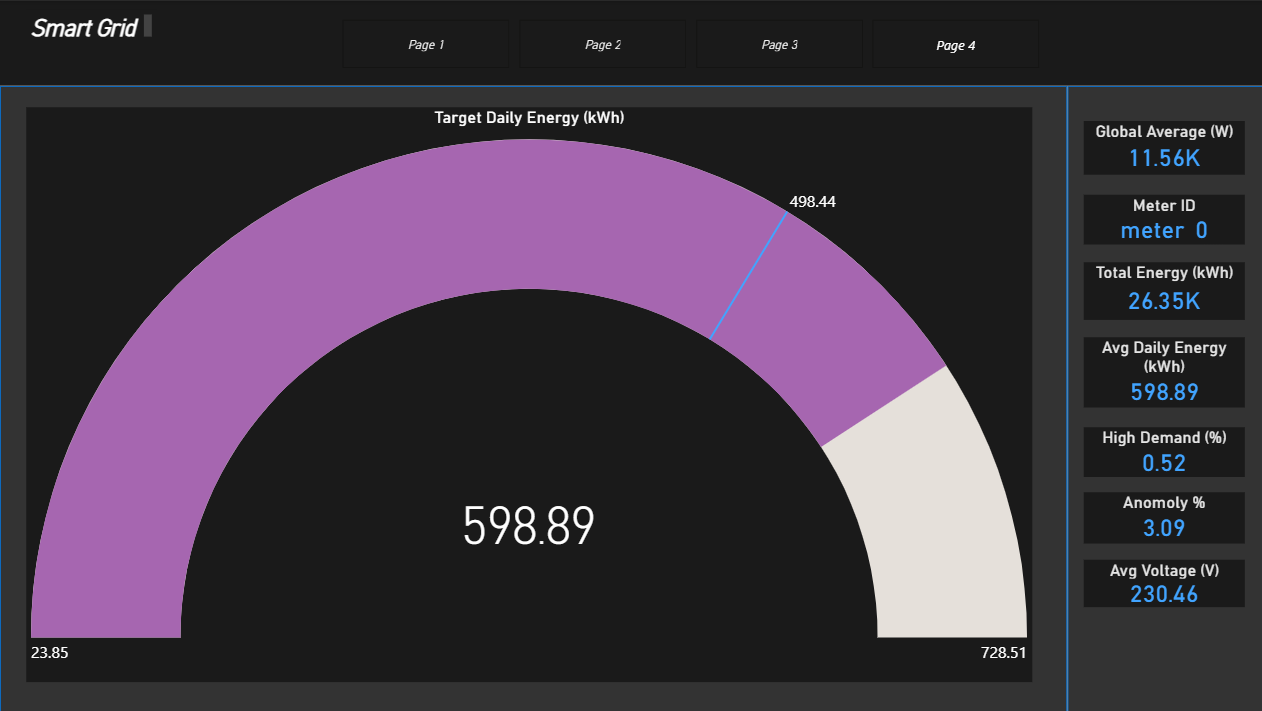

The page's visual inventory and layout, read from the dashboard file:
{"tool":"powerbi","page":{"name":"Page 4","canvas":[1280,720],"ordinal":3},"visuals":[{"type":"shape","box":[0,85.8,1081,634.4],"z":0},{"type":"shape","box":[1081,85.8,199,634.4],"z":1000},{"type":"shape","title":"Smart Grid","box":[0,0,1280,85.8],"z":2000},{"type":"card","title":"Global Average (W)","fields":{"Values":["smart_grid_curated.Global Average Watts"]},"box":[1097.9,121.6,163.4,54.5],"z":3000},{"type":"card","title":"Avg Voltage (V)","fields":{"Values":["smart_grid_curated.Avg Voltage (V)"]},"box":[1097.9,566,163.4,48.1],"z":4000},{"type":"card","title":"Meter ID","fields":{"Values":["Min(smart_grid_curated.meter_id)"]},"box":[1097.9,196.3,163.4,50.7],"z":5000},{"type":"textbox","box":[26.1,8.7,131.9,34.8],"z":6000},{"type":"pageNavigator","box":[347.1,18.7,709.1,49.8],"z":7000},{"type":"card","title":"Anomoly %","fields":{"Values":["smart_grid_curated.Anomaly %"]},"box":[1097.9,497.7,163.4,51.9],"z":9000},{"type":"card","title":"Total Energy (kWh)","fields":{"Values":["smart_grid_curated.Total Energy (kWh)"]},"box":[1097.9,264.7,163.4,58.3],"z":10000},{"type":"card","title":"High Demand (%)","fields":{"Values":["smart_grid_curated.High Demand %"]},"box":[1097.9,431.8,163.4,50.7],"z":11000},{"type":"card","title":"Avg Daily Energy (kWh)","fields":{"Values":["smart_grid_curated.Avg Daily Energy (kWh)"]},"box":[1097.9,340.6,163.4,70.9],"z":12000},{"type":"gauge","title":"Target Daily Energy (kWh)","fields":{"Y":["smart_grid_curated.Avg Daily Energy (kWh)"],"MaxValue":["smart_grid_curated.Max Daily Energy (kWh)"],"MinValue":["smart_grid_curated.Min Daily Energy (kWh)"],"TargetValue":["smart_grid_curated.Target Daily Energy (kWh)"]},"box":[26.1,107.6,1019,582.5],"z":13000}]}

Visuals, with their boxes on the page's 1280x720 design canvas (x1, y1, x2, y2). These are canvas units, not pixel positions in the 1262x711 screenshot, which may show the page scaled, cropped or inside an application window:
shape: crop(0, 86, 1081, 720)
shape: crop(1081, 86, 1280, 720)
"Smart Grid" shape: crop(0, 0, 1280, 86)
"Global Average (W)" card: crop(1098, 122, 1261, 176)
"Avg Voltage (V)" card: crop(1098, 566, 1261, 614)
"Meter ID" card: crop(1098, 196, 1261, 247)
textbox: crop(26, 9, 158, 44)
pageNavigator: crop(347, 19, 1056, 68)
"Anomoly %" card: crop(1098, 498, 1261, 550)
"Total Energy (kWh)" card: crop(1098, 265, 1261, 323)
"High Demand (%)" card: crop(1098, 432, 1261, 482)
"Avg Daily Energy (kWh)" card: crop(1098, 341, 1261, 412)
"Target Daily Energy (kWh)" gauge: crop(26, 108, 1045, 690)
